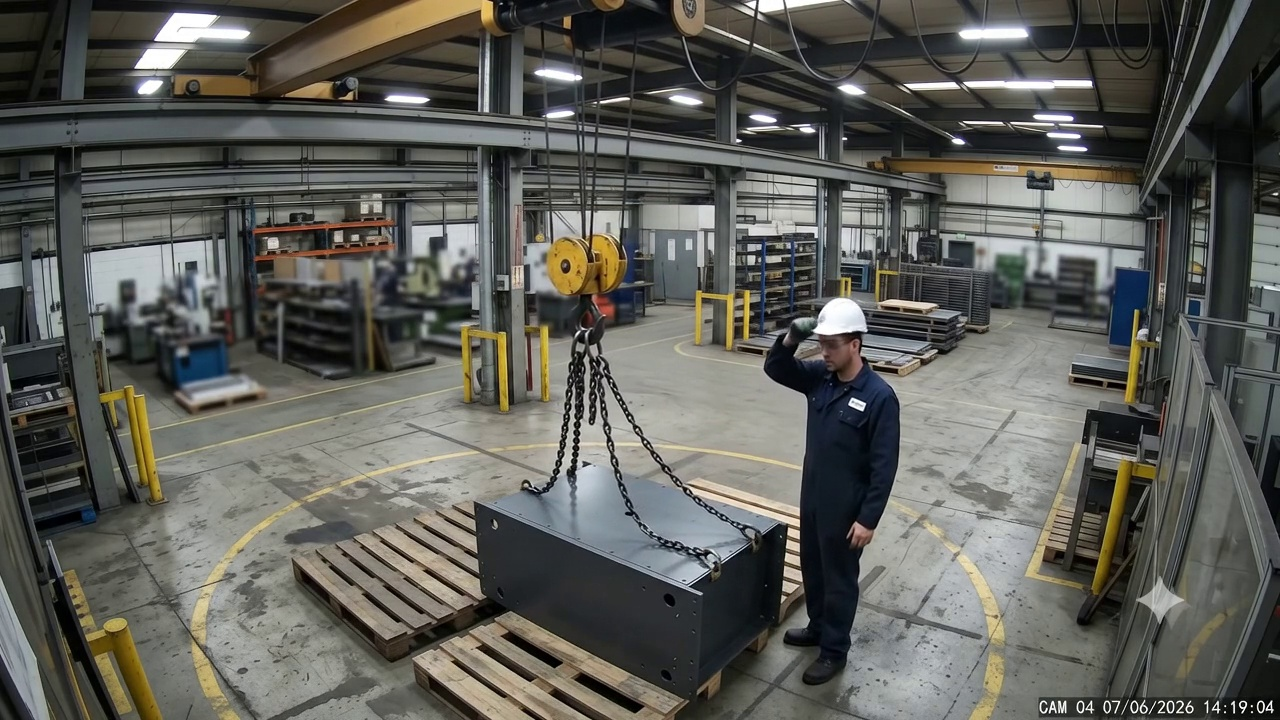person: (763, 298, 902, 687)
